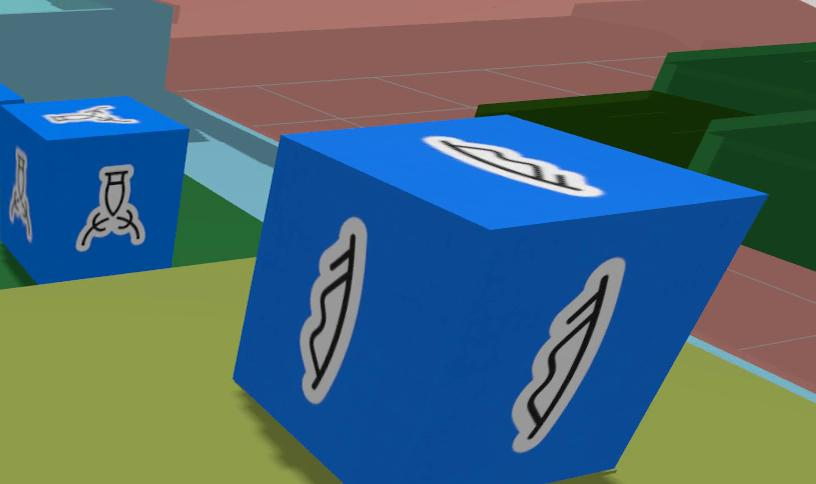KFS_REAL: (233, 116, 762, 483), (0, 96, 186, 282), (512, 258, 624, 452), (300, 217, 366, 403), (75, 165, 144, 251), (43, 105, 137, 123)
